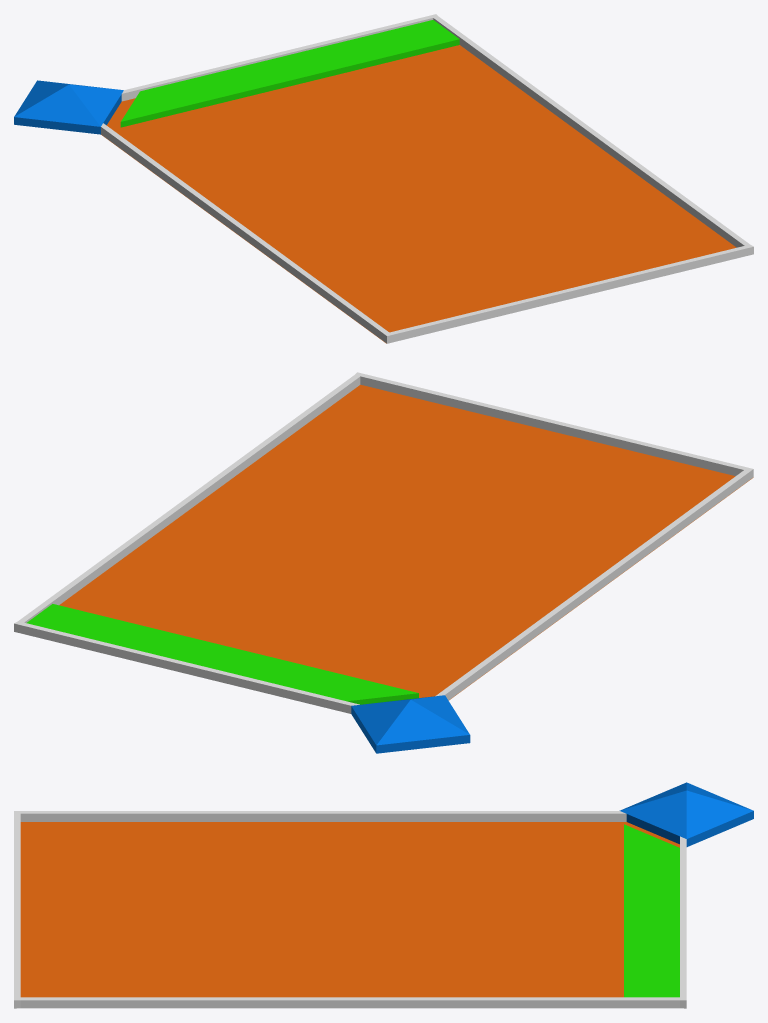
File: Card.fbx
3 views of the same model, one above another, from view 1: azimuth 30°, elevation 25°; view 2: azimuth 150°, elevation 25°; view 3: azimuth 270°, elevation 25° (orthographic). The views are drawn at different scales.
Visible parts, largest first — view 1: Art_Plane, Border, Type_Field, Force_Prism; view 2: Art_Plane, Border, Type_Field, Force_Prism; view 3: Art_Plane, Border, Type_Field, Force_Prism.
Boxes of the visible parts, left/top/right/bottom form: Art_Plane: left=101, top=45, right=736, bottom=343; Border: left=101, top=14, right=753, bottom=343; Type_Field: left=120, top=20, right=459, bottom=127; Force_Prism: left=14, top=80, right=123, bottom=134; Art_Plane: left=59, top=384, right=753, bottom=700; Border: left=14, top=372, right=753, bottom=713; Type_Field: left=26, top=604, right=418, bottom=704; Force_Prism: left=351, top=695, right=470, bottom=753; Art_Plane: left=20, top=822, right=679, bottom=997; Border: left=14, top=811, right=686, bottom=1008; Type_Field: left=624, top=824, right=679, bottom=997; Force_Prism: left=619, top=782, right=753, bottom=846.
Size of the model in its own units: 230 by 14 by 330.
